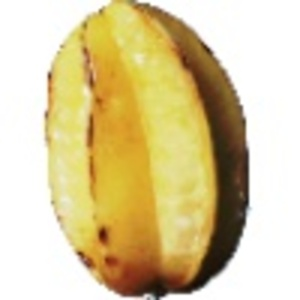carambola: (41, 1, 252, 300)
